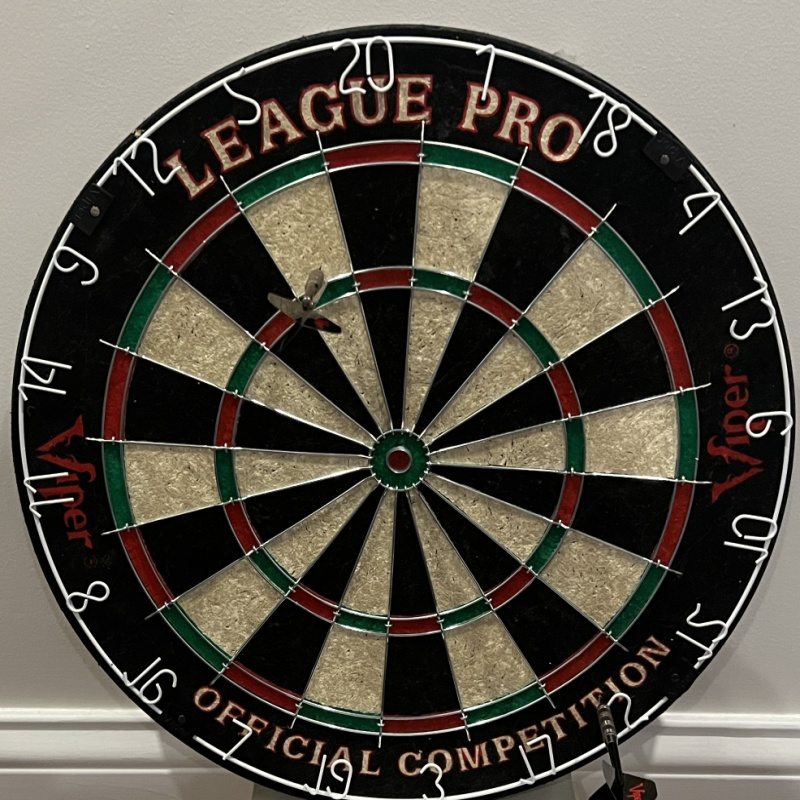dart: (592, 698, 613, 721), (307, 266, 326, 286)
eleven: (23, 473, 76, 517)
six: (748, 411, 793, 436)
three: (418, 764, 445, 800)
twenty: (332, 37, 392, 95)
